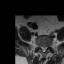CCS_normal: (43, 45, 44, 53)
LFS_severe_stenosis: (46, 44, 49, 50)
LLS_normal: (44, 45, 46, 51)
RFS_stenosis: (39, 43, 41, 50)
RLS_normal: (41, 45, 43, 52)
